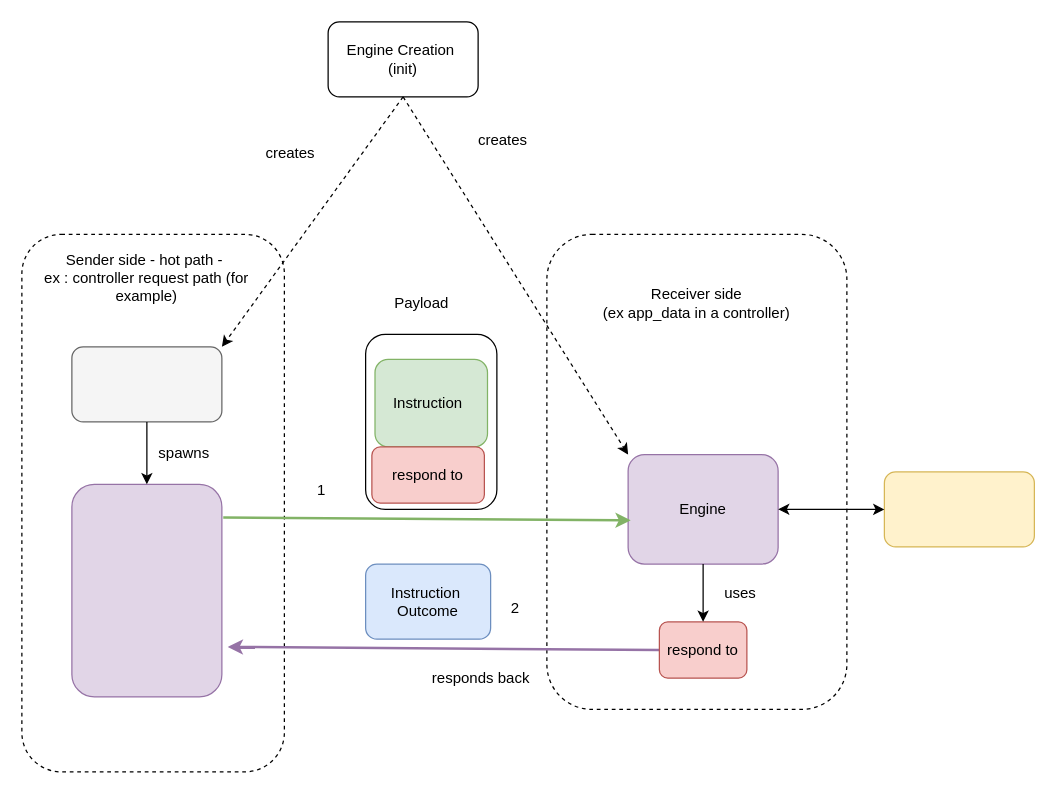
The diagram is 1056 pixels wide and 794 high, and some of its shapes have lost their labels. Here are the shapes that lost their labels. From the top down, the centre of each, then its label:
At [146,384]: "Engine Handle".
At [958,509]: "State (accounts, tx-s)".
At [146,590]: "EngineClient".
